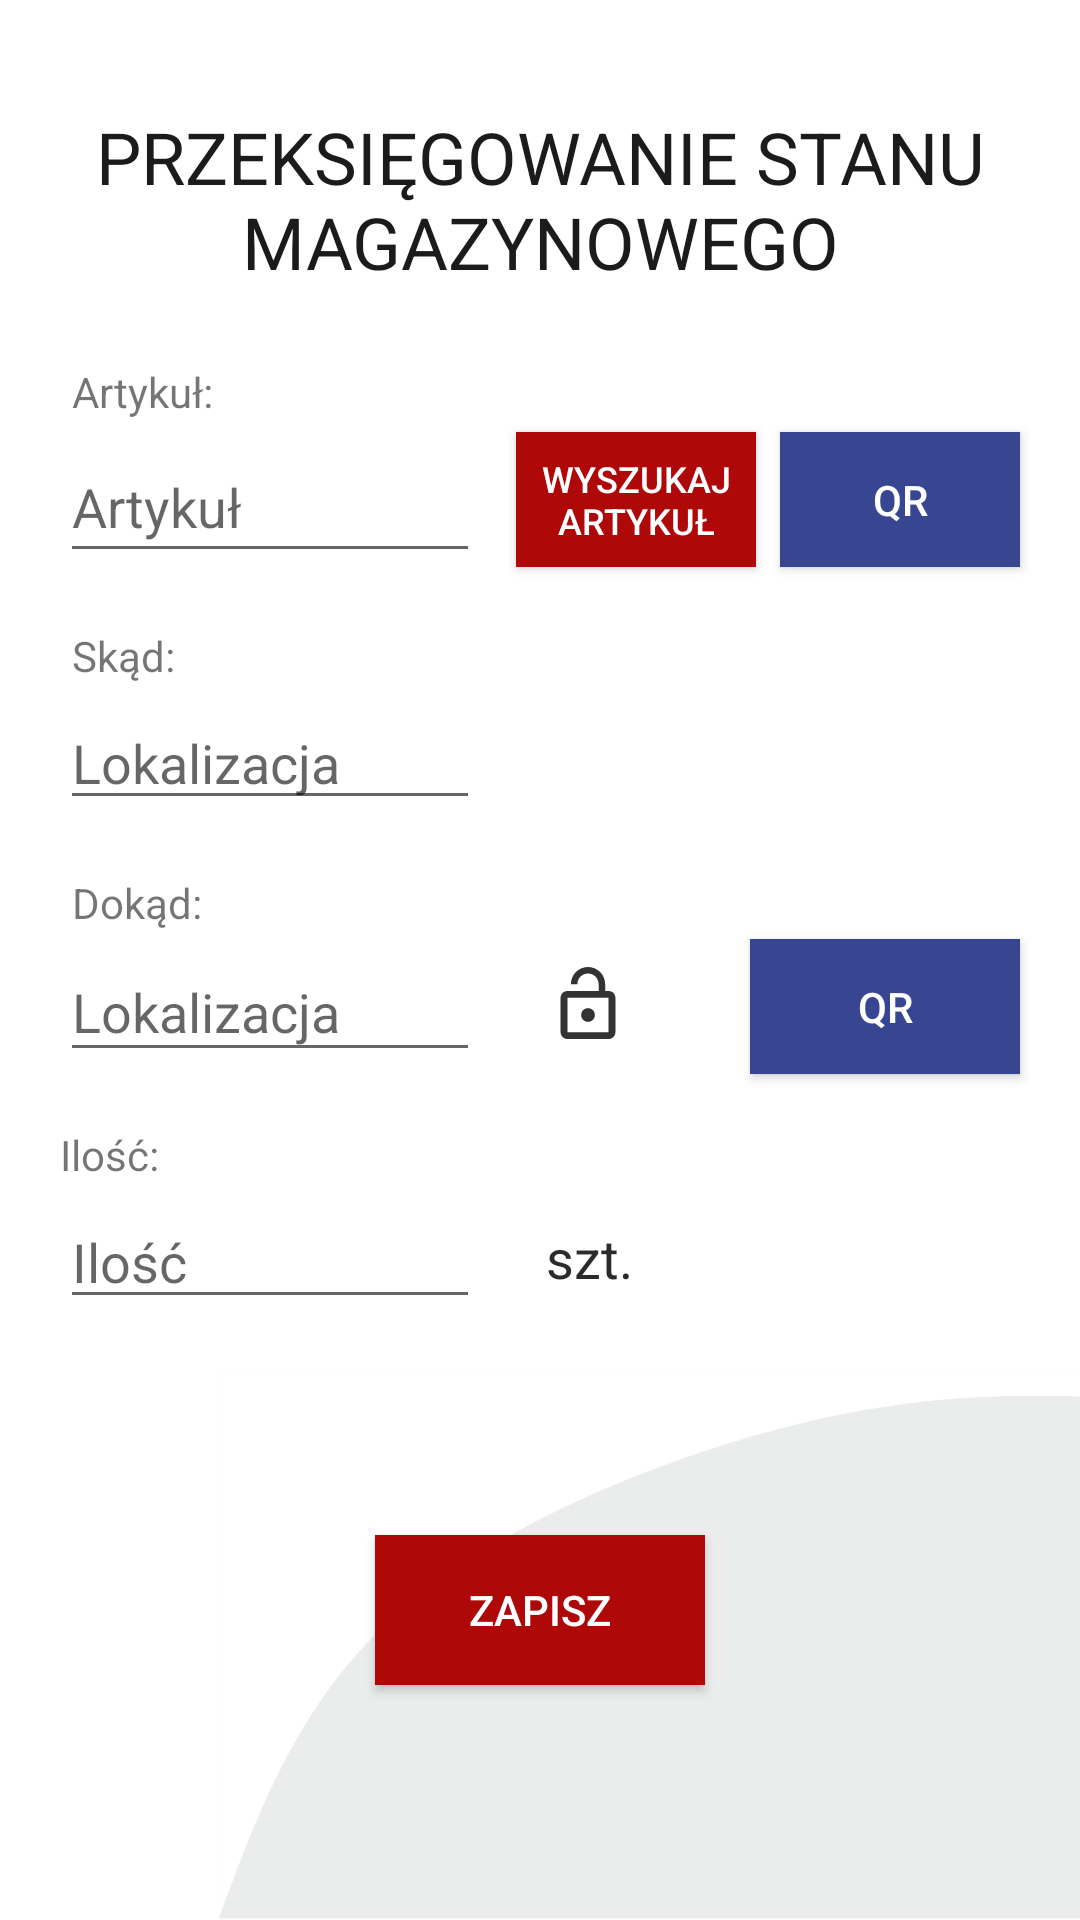

Where icons sit on this 1080w x 1920h app screen, as (x1, y1, x2, y2):
lock: (560, 967, 616, 1039)
